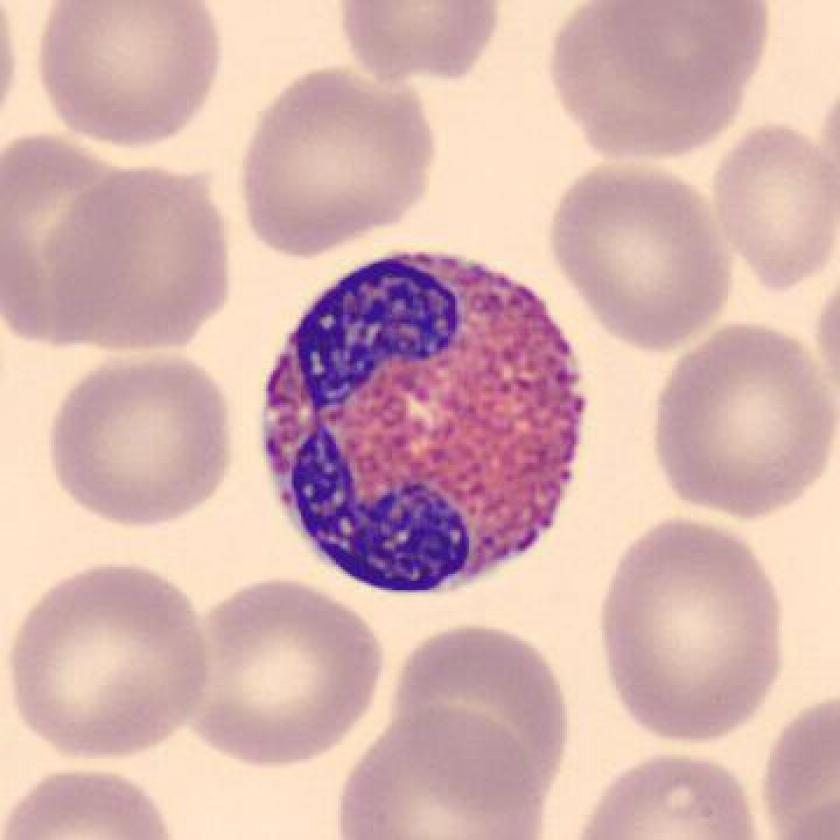eosinophil: (246, 237, 598, 605)
